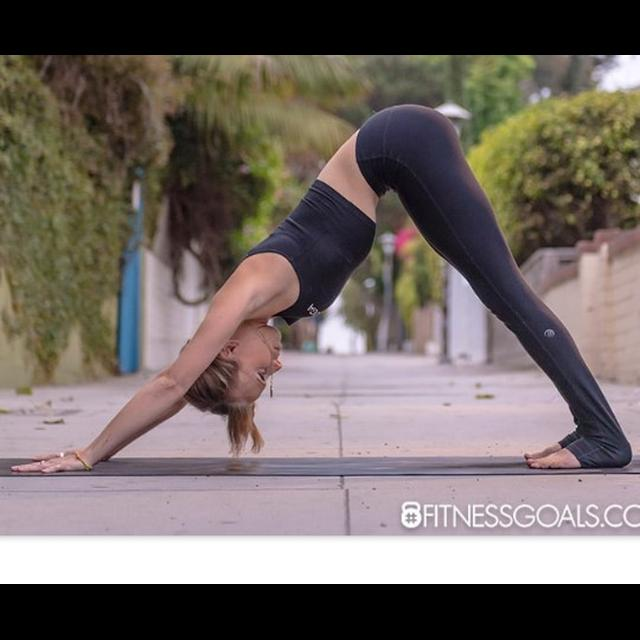Downward-Facing_Dog: (1, 100, 637, 482)
